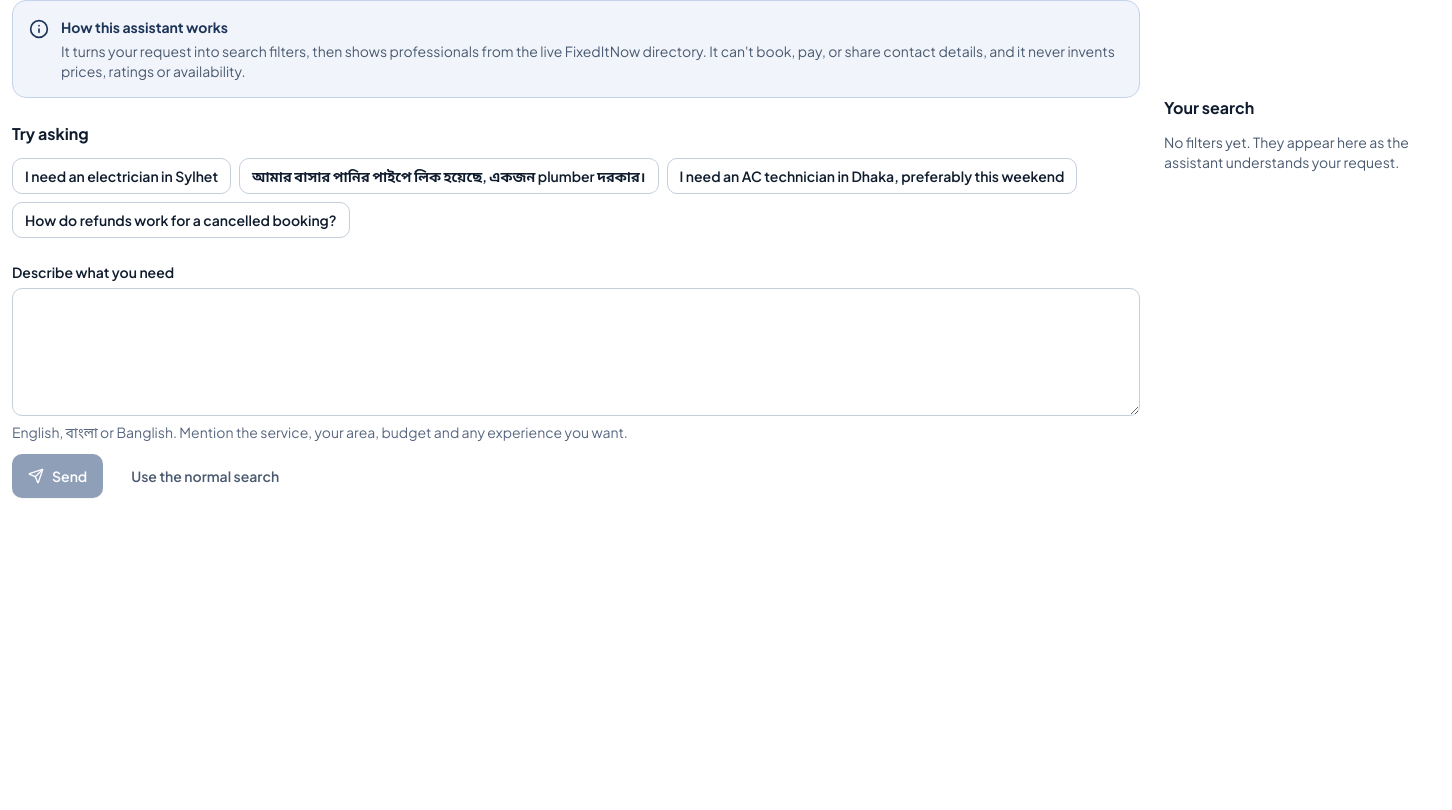
Test: assistant chat › answers carry links to their sources, or say that none exist
The image size is (1452, 810).
Type "can I cancel" into the text box labelled "Describe what you need" at (576, 352), box [12,288,1140,416]
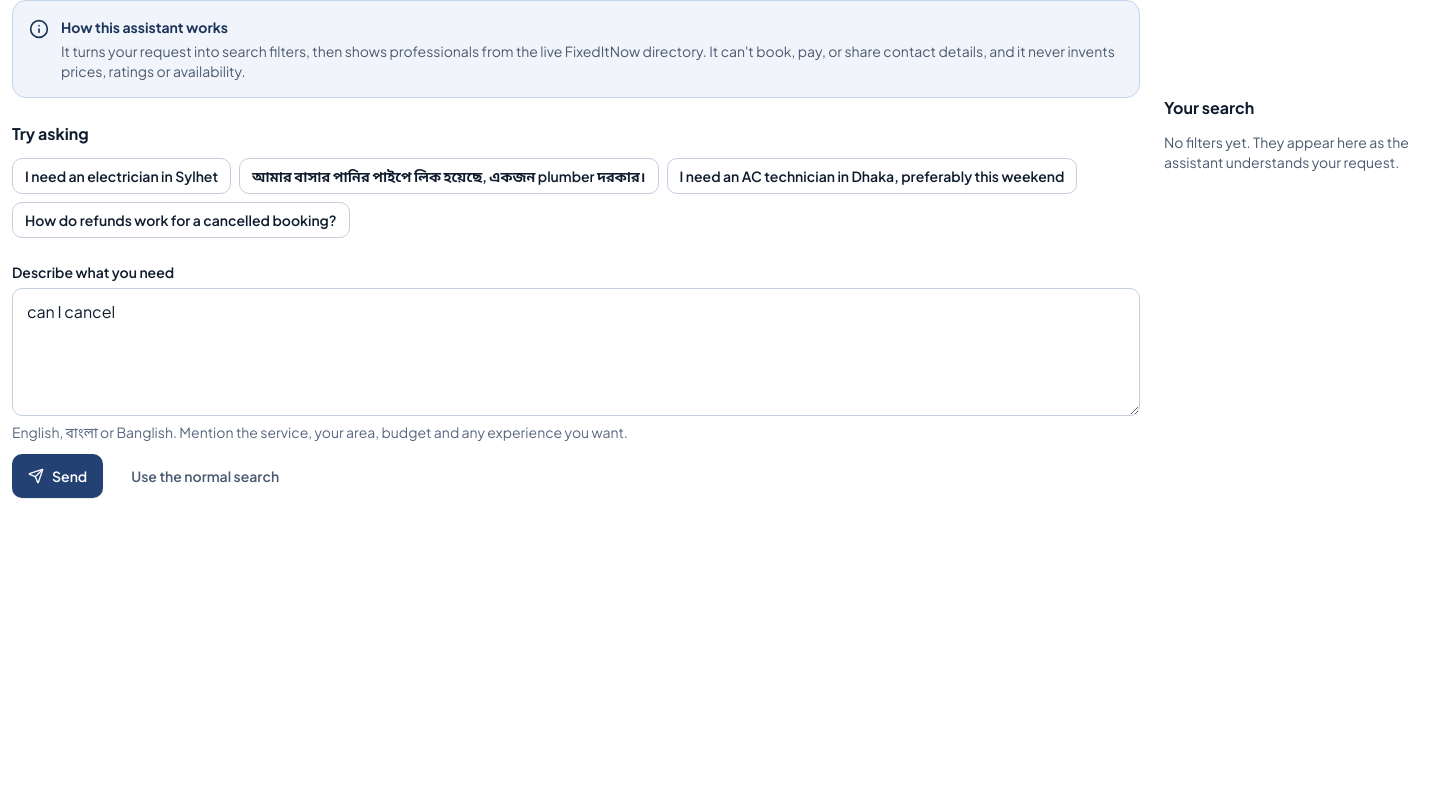
Click the button "Send" at (58, 476), box [12,454,103,498]
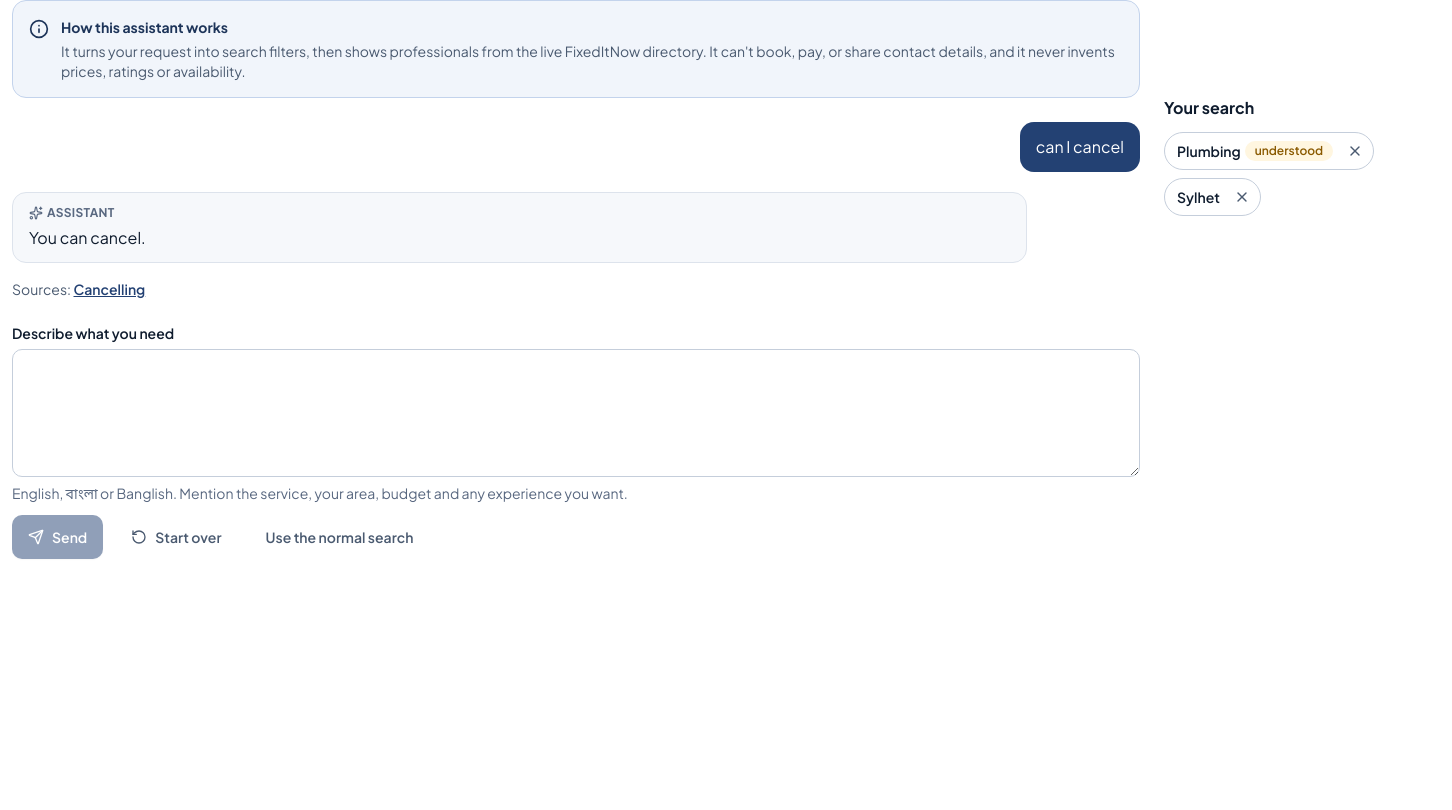
Type "what percentage?" into the text box labelled "Describe what you need" at (576, 413), box [12,349,1140,477]
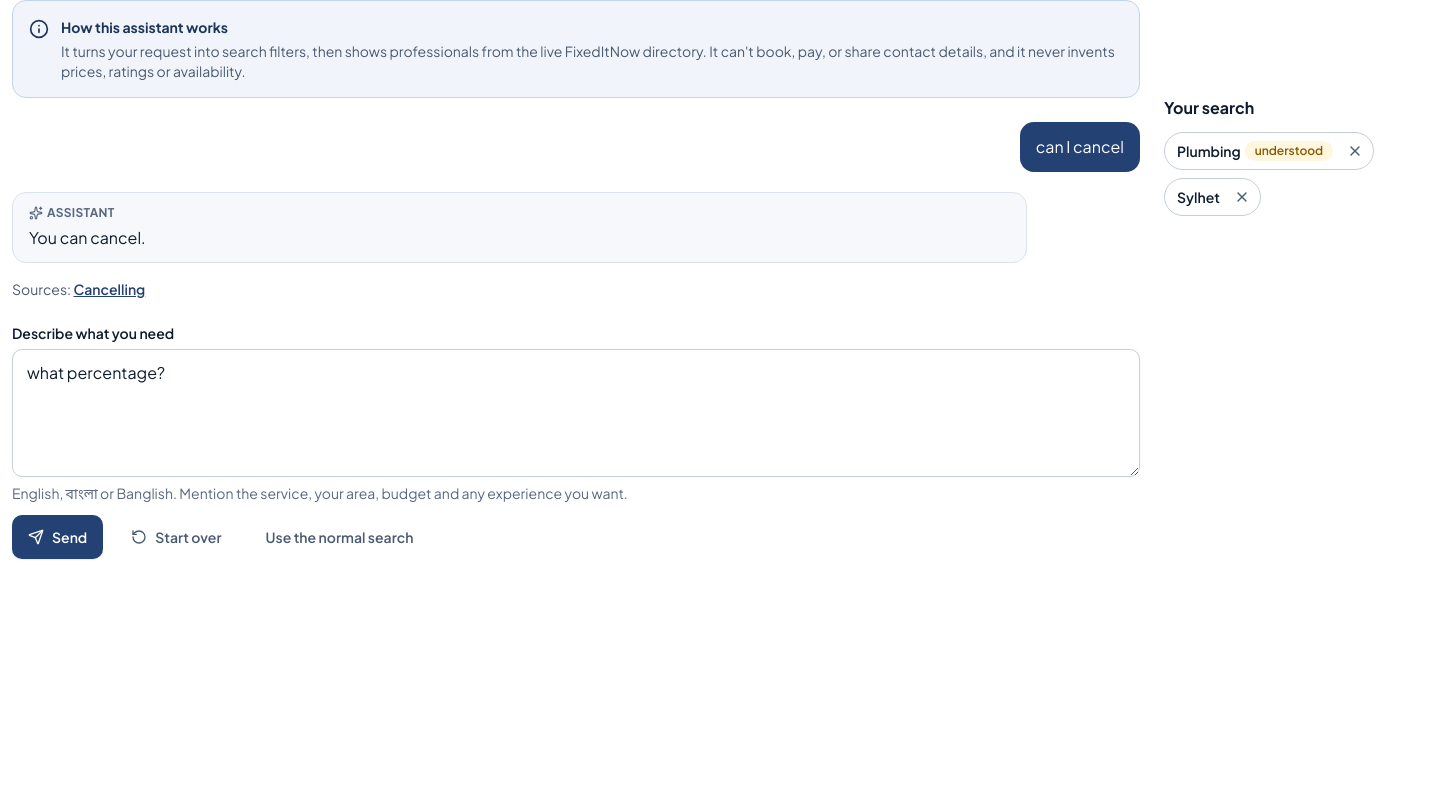
Click the button "Send" at (58, 537), box [12,515,103,559]
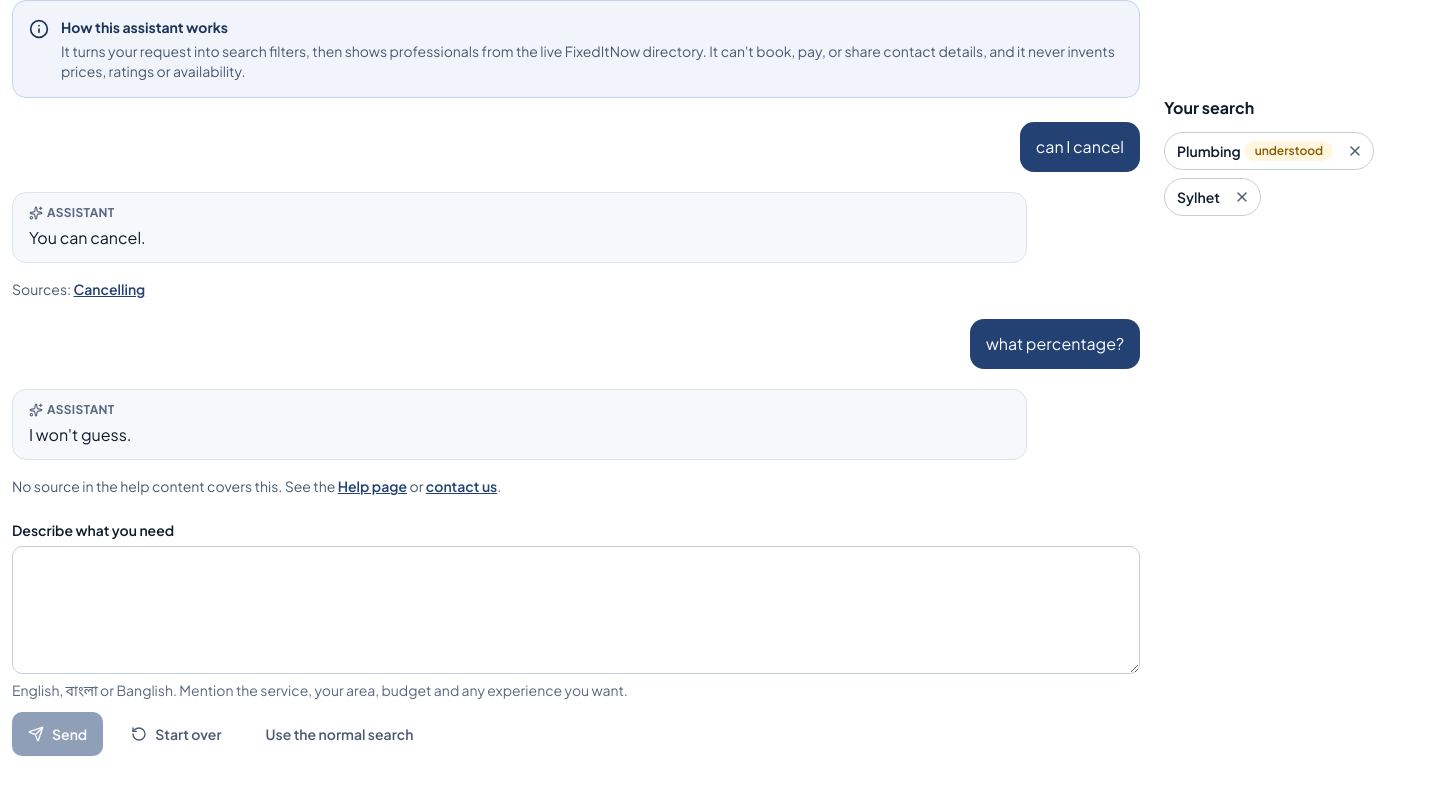
Result: the text "No source in the help content covers this" is shown at [12,477,338,495]
